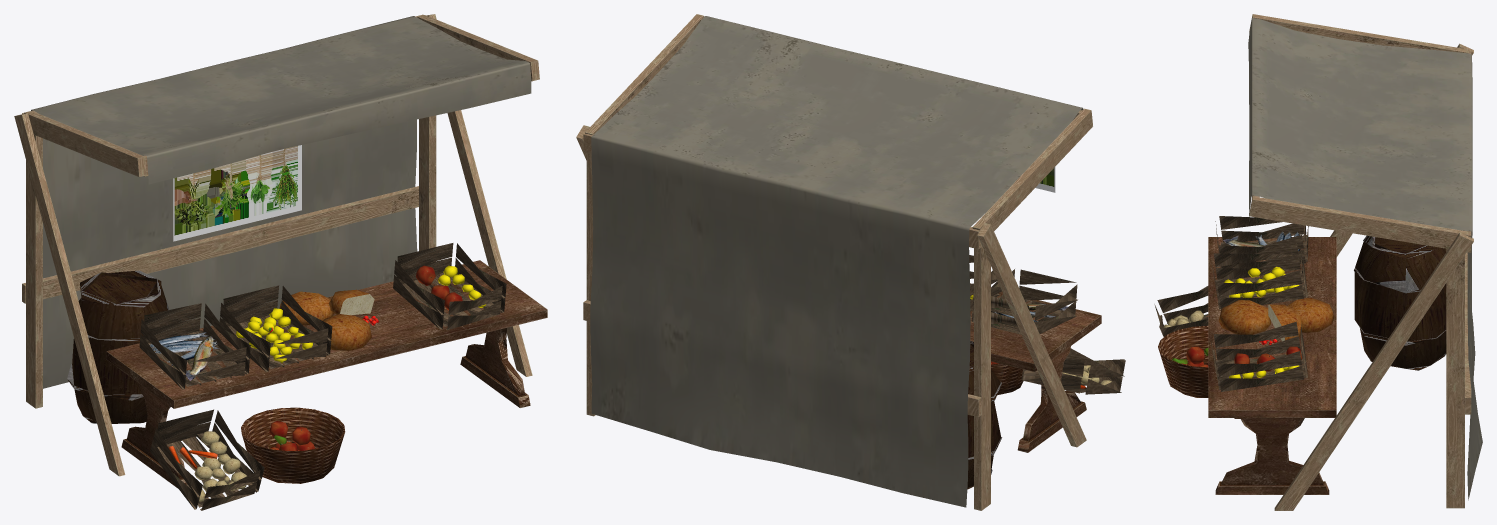
File: sap-trai-cay-2.glb
The picture shows the model from 3 angles, left to right: view 1: azimuth 30°, elevation 25°; view 2: azimuth 150°, elevation 25°; view 3: azimuth 270°, elevation 25°; orthographic projection. The views are drawn at different scales.
Visible parts, largest first — view 1: Food_Stall_food_stll_cloth_BaseColor_0, Food_Stall_food_stll_stand_BaseColor_0, Food_Stall_box_albedo_0, Food_Stall_table_albedo_0, Food_Stall_barrel_albedo_0, Food_Stall_herbs_diffuze_0, Food_Stall_food_stll_fruits_BaseColor_0, Food_Stall_food_stll_basket_BaseColor_0, Food_Stall_food_stll_bread_BaseColor_0, Food_Stall_FISH_diffuze_0; view 2: Food_Stall_food_stll_cloth_BaseColor_0, Food_Stall_food_stll_stand_BaseColor_0, Food_Stall_box_albedo_0, Food_Stall_table_albedo_0, Food_Stall_barrel_albedo_0, Food_Stall_food_stll_basket_BaseColor_0; view 3: Food_Stall_food_stll_cloth_BaseColor_0, Food_Stall_food_stll_stand_BaseColor_0, Food_Stall_table_albedo_0, Food_Stall_box_albedo_0, Food_Stall_barrel_albedo_0, Food_Stall_food_stll_bread_BaseColor_0, Food_Stall_food_stll_basket_BaseColor_0, Food_Stall_food_stll_fruits_BaseColor_0, Food_Stall_FISH_diffuze_0.
Part boxes in pixels (bbox=[...]): Food_Stall_food_stll_cloth_BaseColor_0: bbox=[31, 16, 531, 388]; Food_Stall_food_stll_stand_BaseColor_0: bbox=[14, 14, 539, 476]; Food_Stall_box_albedo_0: bbox=[139, 243, 506, 510]; Food_Stall_table_albedo_0: bbox=[106, 260, 547, 488]; Food_Stall_barrel_albedo_0: bbox=[67, 270, 168, 423]; Food_Stall_herbs_diffuze_0: bbox=[173, 145, 301, 241]; Food_Stall_food_stll_fruits_BaseColor_0: bbox=[169, 265, 485, 501]; Food_Stall_food_stll_basket_BaseColor_0: bbox=[241, 407, 345, 483]; Food_Stall_food_stll_bread_BaseColor_0: bbox=[279, 289, 374, 350]; Food_Stall_FISH_diffuze_0: bbox=[149, 332, 219, 380]; Food_Stall_food_stll_cloth_BaseColor_0: bbox=[590, 16, 1083, 507]; Food_Stall_food_stll_stand_BaseColor_0: bbox=[576, 14, 1092, 510]; Food_Stall_box_albedo_0: bbox=[969, 255, 1125, 394]; Food_Stall_table_albedo_0: bbox=[970, 283, 1101, 452]; Food_Stall_barrel_albedo_0: bbox=[967, 341, 1002, 489]; Food_Stall_food_stll_basket_BaseColor_0: bbox=[991, 363, 1023, 395]; Food_Stall_food_stll_cloth_BaseColor_0: bbox=[1248, 18, 1482, 500]; Food_Stall_food_stll_stand_BaseColor_0: bbox=[1249, 14, 1473, 510]; Food_Stall_table_albedo_0: bbox=[1208, 237, 1336, 494]; Food_Stall_box_albedo_0: bbox=[1154, 216, 1308, 391]; Food_Stall_barrel_albedo_0: bbox=[1354, 235, 1446, 370]; Food_Stall_food_stll_bread_BaseColor_0: bbox=[1218, 297, 1334, 341]; Food_Stall_food_stll_basket_BaseColor_0: bbox=[1158, 325, 1208, 397]; Food_Stall_food_stll_fruits_BaseColor_0: bbox=[1163, 266, 1302, 378]; Food_Stall_FISH_diffuze_0: bbox=[1223, 231, 1300, 259].
Size of the model in its own units: 1 by 0.7547 by 0.7253.
10 materials, 10 textured.
